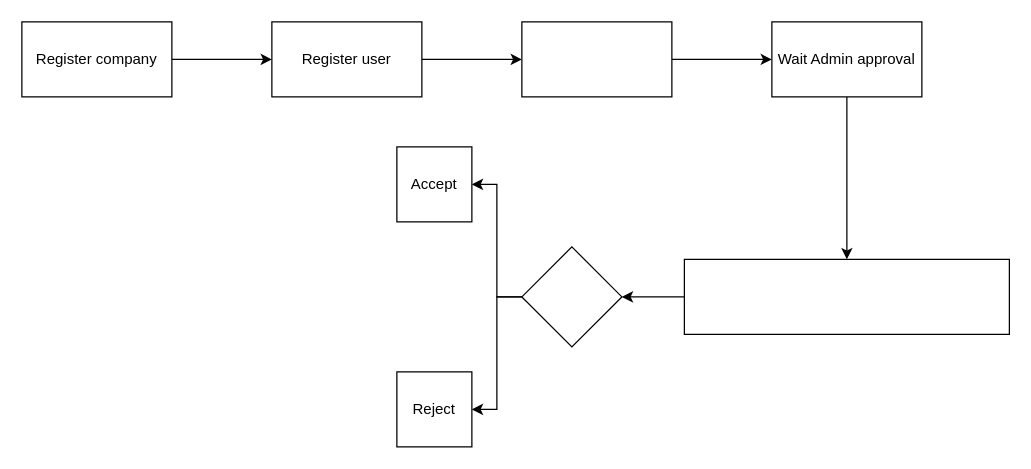
The diagram is 1031 pixels wide and 469 high, and some of its shapes have lost their labels. Here are the shapes that lost their labels. From the top down, the centre of each, then its label:
[596,59]: Confirm email
[571,296]: Approval
[846,296]: POST request on /api/merchanttransactionmanualverify
